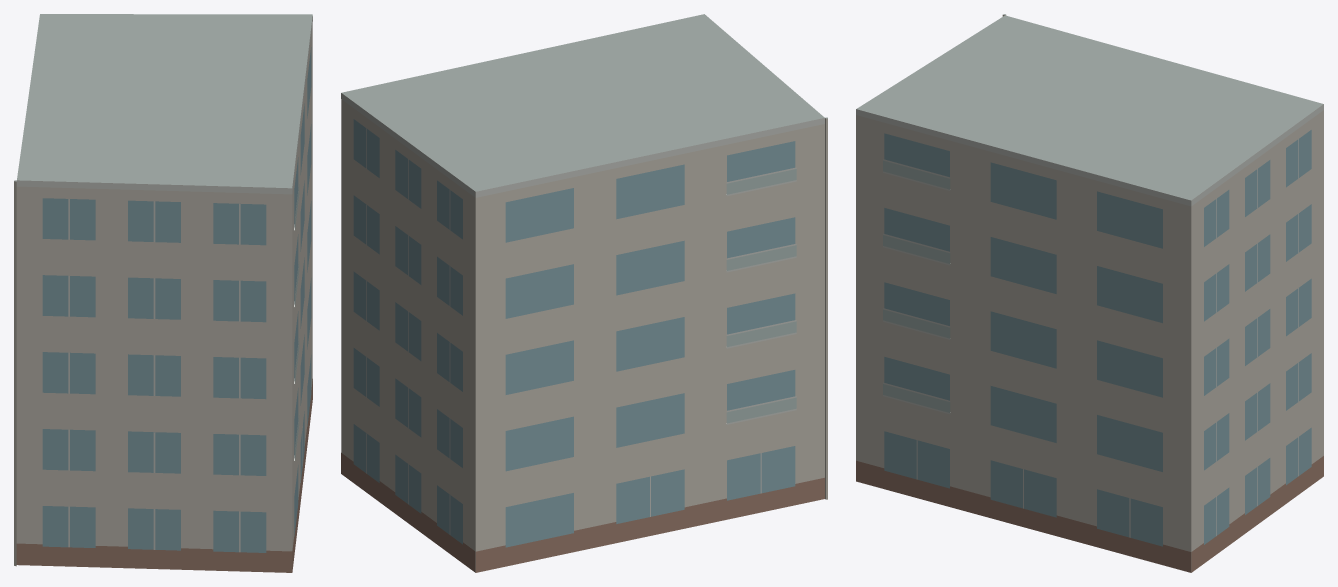
Rendered from survey-upis-32918867.glb.
The picture shows the model from 3 angles, left to right: view 1: azimuth 30°, elevation 25°; view 2: azimuth 150°, elevation 25°; view 3: azimuth 270°, elevation 25°; orthographic projection. The views are drawn at different scales.
Parts seen in each view (by area): view 1: survey-upis-32918867.tmp; view 2: survey-upis-32918867.tmp; view 3: survey-upis-32918867.tmp.
Part boxes in pixels (box(x1,y1,x2,y2)): survey-upis-32918867.tmp: box(14, 14, 312, 572); survey-upis-32918867.tmp: box(341, 14, 827, 572); survey-upis-32918867.tmp: box(856, 14, 1323, 572).
Size of the model in its own units: 16.39 by 15.25 by 17.37.
